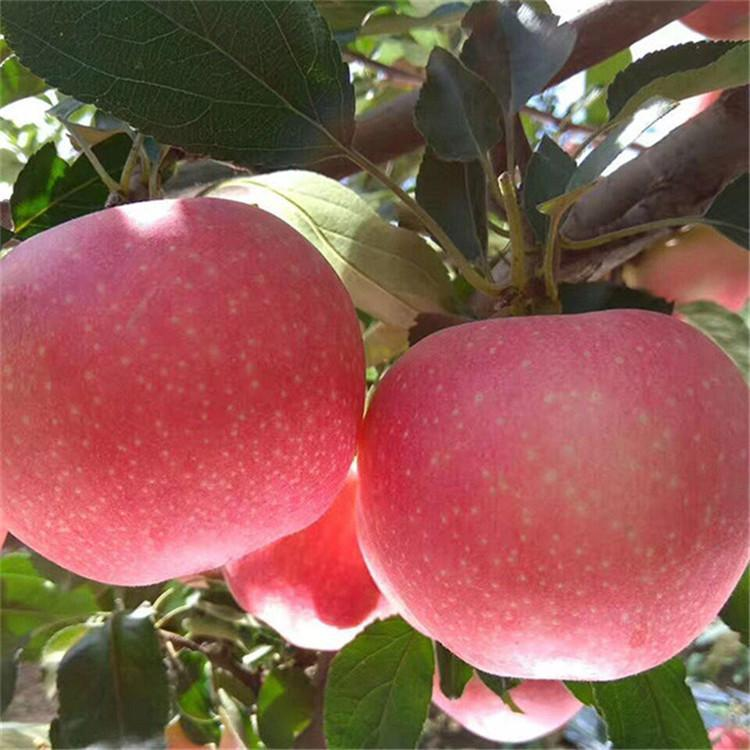apple: (361, 305, 749, 679), (1, 186, 366, 582)
